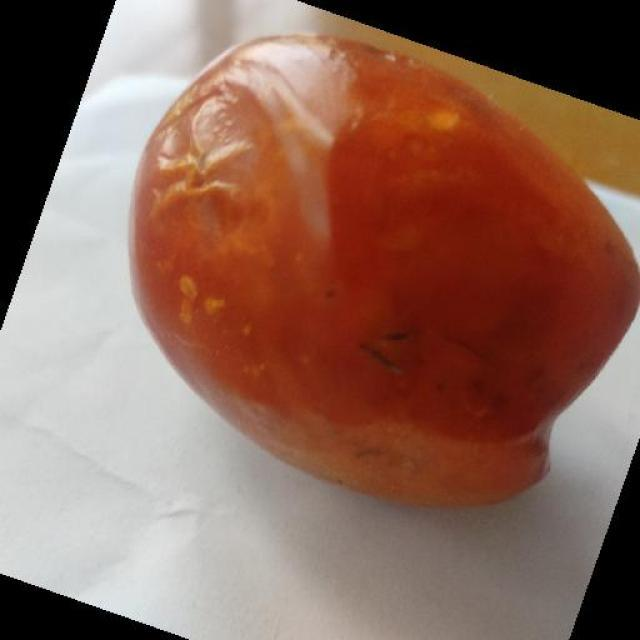Rotten Tomato: (119, 29, 631, 539)
